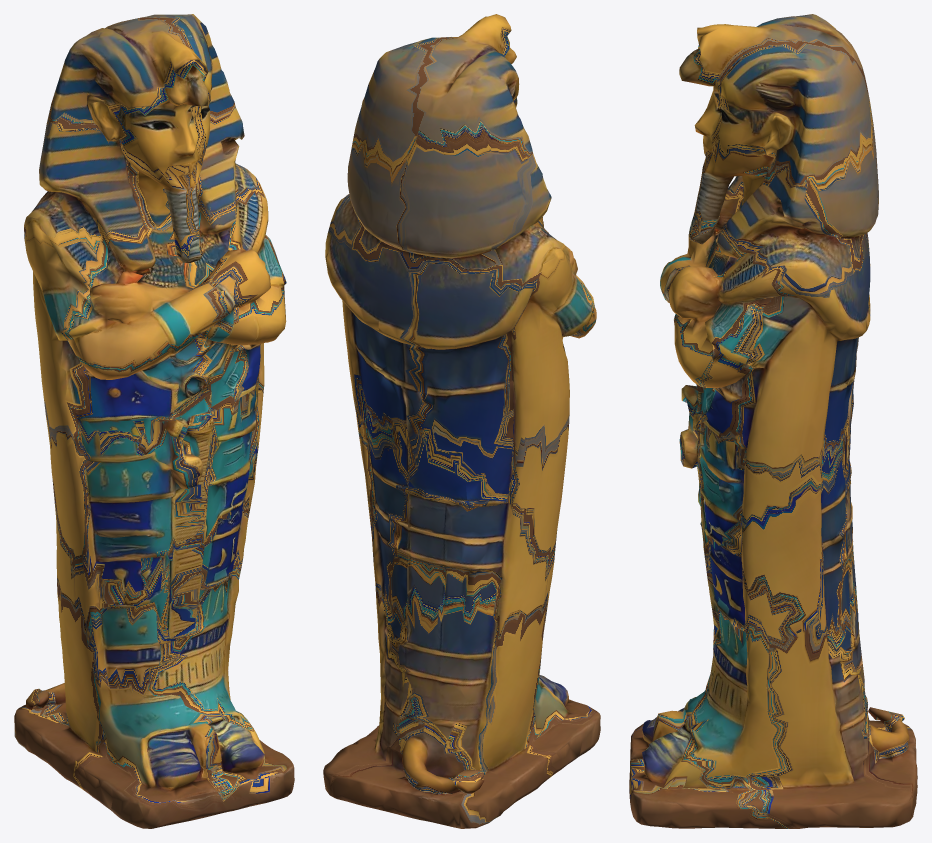
File: sarcophagus.glb
3 renders of one model, left to right at view 1: azimuth 30°, elevation 25°; view 2: azimuth 150°, elevation 25°; view 3: azimuth 270°, elevation 25°, orthographic. The views are drawn at different scales.
Visible parts, largest first — view 1: tripo_node_7fa3b6bc-5b65-4c1a-9560-ef19f941f9b9; view 2: tripo_node_7fa3b6bc-5b65-4c1a-9560-ef19f941f9b9; view 3: tripo_node_7fa3b6bc-5b65-4c1a-9560-ef19f941f9b9.
Boxes of the visible parts, <box> form: tripo_node_7fa3b6bc-5b65-4c1a-9560-ef19f941f9b9: <box>14,14,294,828</box>; tripo_node_7fa3b6bc-5b65-4c1a-9560-ef19f941f9b9: <box>323,14,600,828</box>; tripo_node_7fa3b6bc-5b65-4c1a-9560-ef19f941f9b9: <box>629,14,917,828</box>.
Bounding box in the file's own units: 0.3165 × 0.9995 × 0.342.
1 material, 1 textured.
